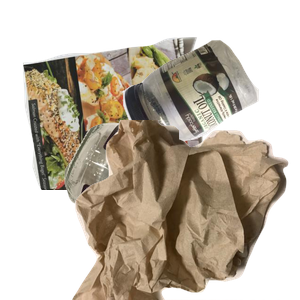glass: (62, 120, 300, 300)
paper: (20, 34, 221, 214)
plastic: (120, 37, 300, 185)
trash: (70, 120, 300, 300)
